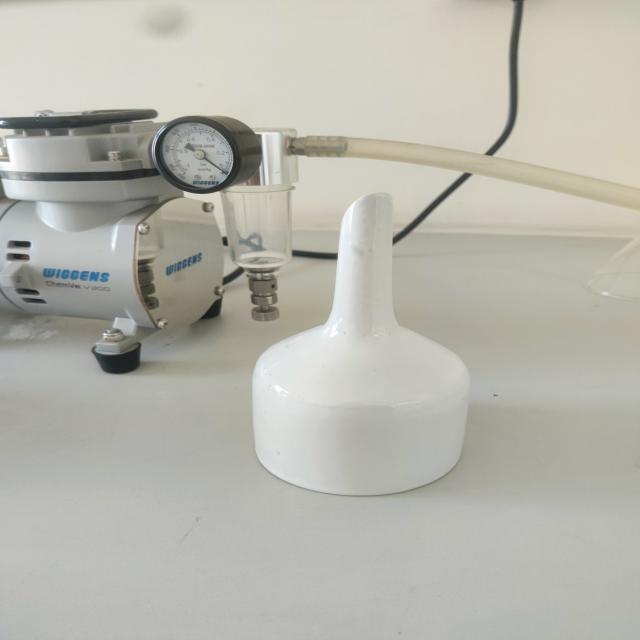Buchner_Funnel: (235, 172, 494, 514)
